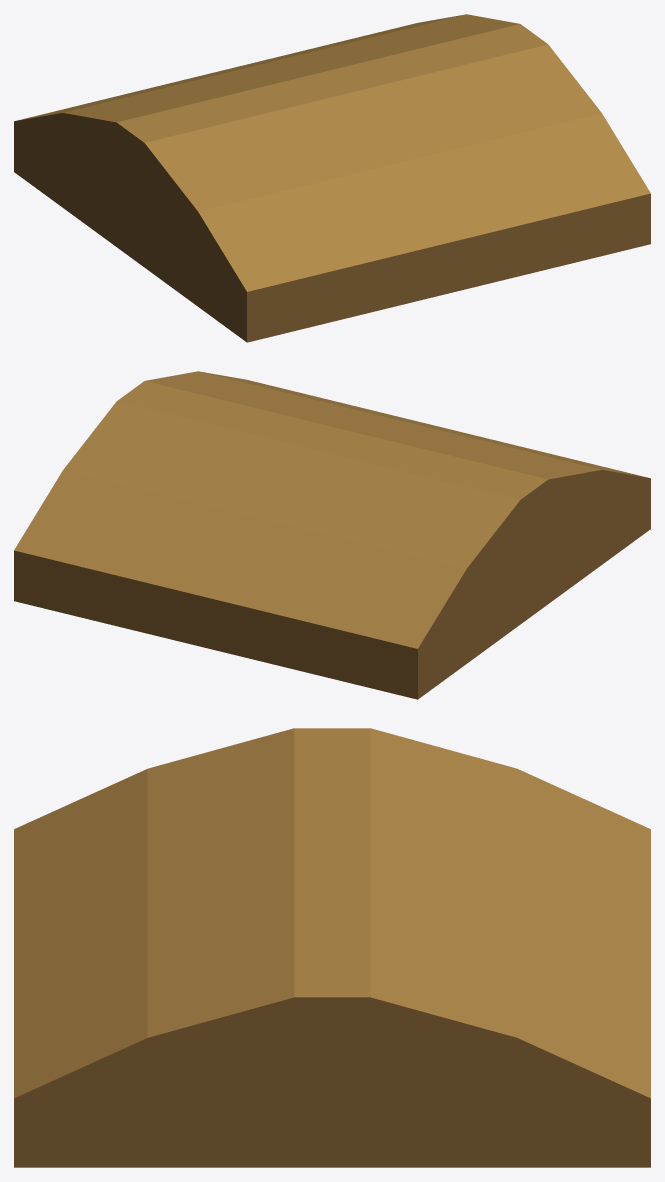
File: crown_run.glb
The picture shows the model from 3 angles, top to bottom: view 1: azimuth 30°, elevation 25°; view 2: azimuth 150°, elevation 25°; view 3: azimuth 270°, elevation 25°; orthographic projection. The views are drawn at different scales.
Visible parts, largest first — view 1: Crown run; view 2: Crown run; view 3: Crown run.
Boxes of the visible parts, x1,y1,x2,y2 form: Crown run: (14, 14, 650, 342); Crown run: (14, 371, 650, 699); Crown run: (14, 728, 650, 1167).
Bounding box in the file's own units: 1 × 0.295 × 1.
